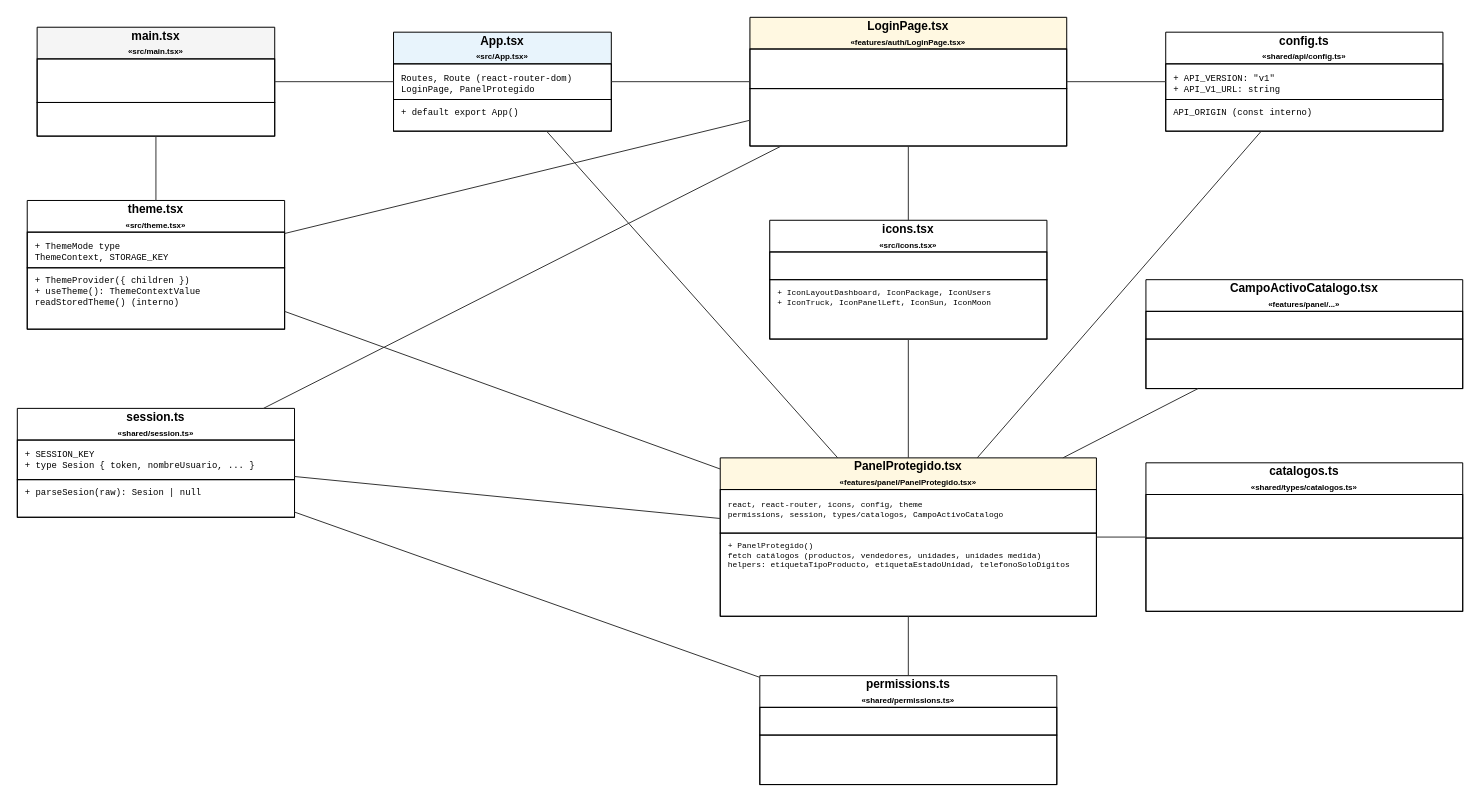
This 1480x805 diagram has some shape labels left out. The shapes that lost their labels are listed below. From the top down, each one's centre as x and y in pixels, then its label:
(x=155, y=80): StrictMode, createRoot BrowserRouter, ThemeProvider App, CSS global
(x=908, y=68): react, react-router, icons, config session (SESSION_KEY, parseSesion), useTheme
(x=155, y=118): createRoot(...).render(<App />)
(x=908, y=117): + LoginPage() iniciarSesion() → fetch(API_V1_URL/auth/login)
(x=908, y=265): IconProps { className?, title? }
(x=1304, y=324): CampoActivoCatalogoProps
(x=1304, y=363): + CampoActivoCatalogo({ activo, puedeEditarEstado })
(x=1304, y=516): + UnidadMedidaOpt, Producto, Vendedor + UnidadMovil, Paginacion, ModalEdicion
(x=1304, y=574): (solo tipos exportados)
(x=908, y=720): import type Sesion
(x=908, y=759): + etiquetaRol(rol) + puedeCrearEditar(rol) + puedeCambiarActivoCatalogo(rol)
